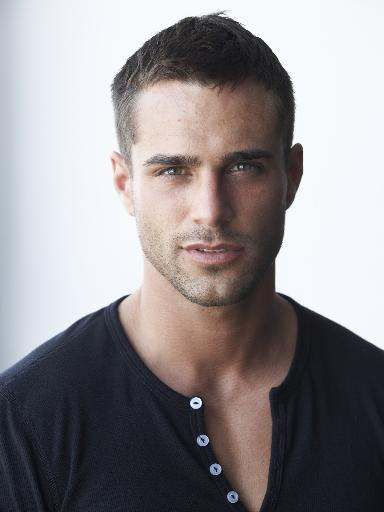left_eye: (225, 161, 268, 177)
left_lip_corner: (235, 243, 249, 258)
right_eye: (153, 166, 194, 183)
right_lip_corner: (176, 240, 192, 258)
